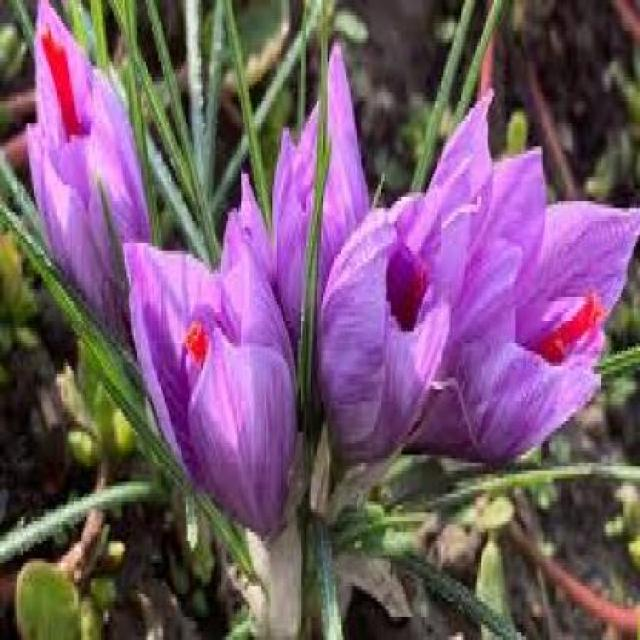saffron closed: (320, 45, 369, 284), (272, 110, 317, 339)
saffron open: (126, 207, 297, 538), (28, 1, 151, 344), (320, 195, 464, 460)
